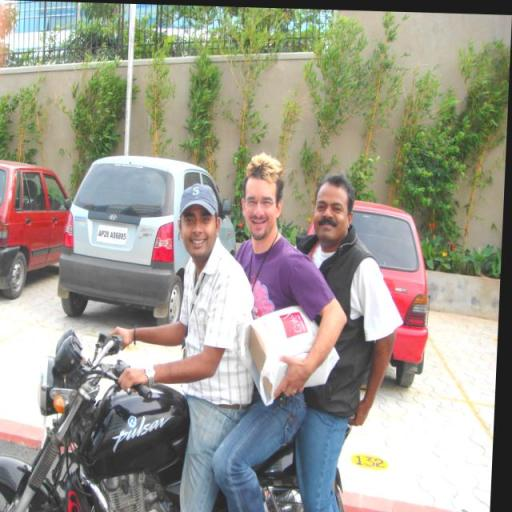tripple riding: (164, 150, 400, 512)
